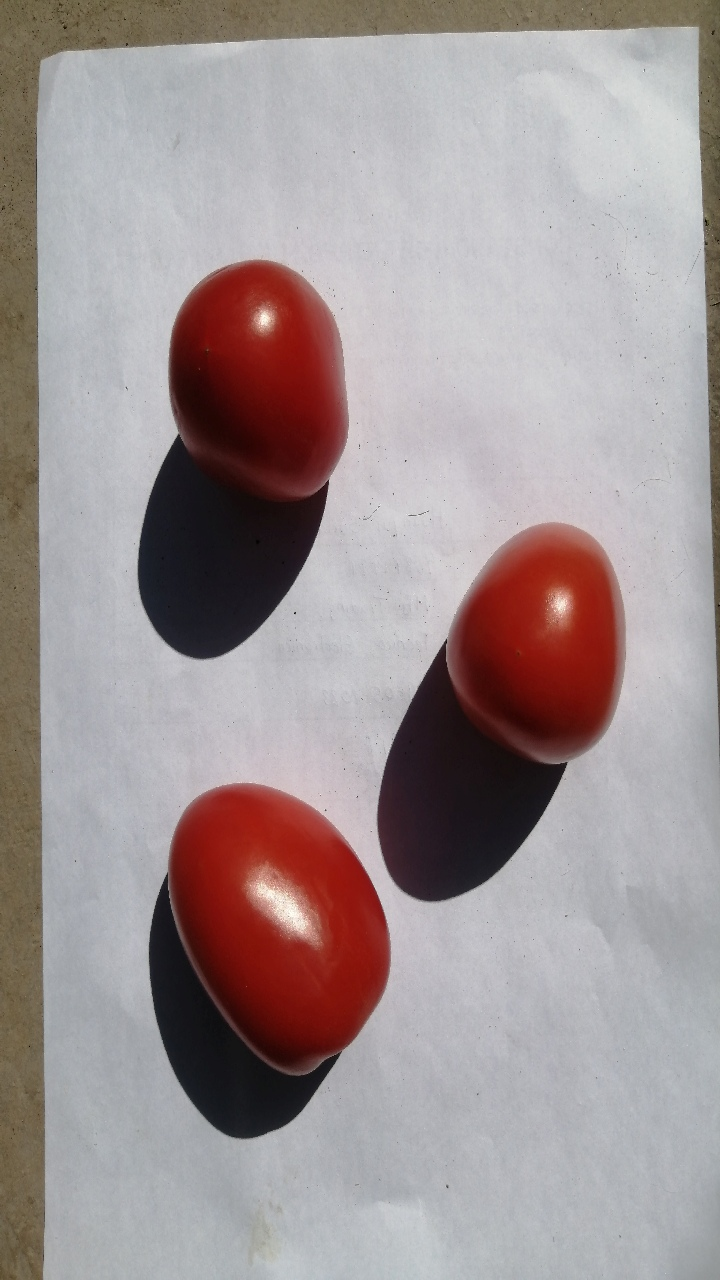tomateRojo: (148, 751, 397, 1086), (152, 240, 378, 511), (431, 508, 635, 795)
